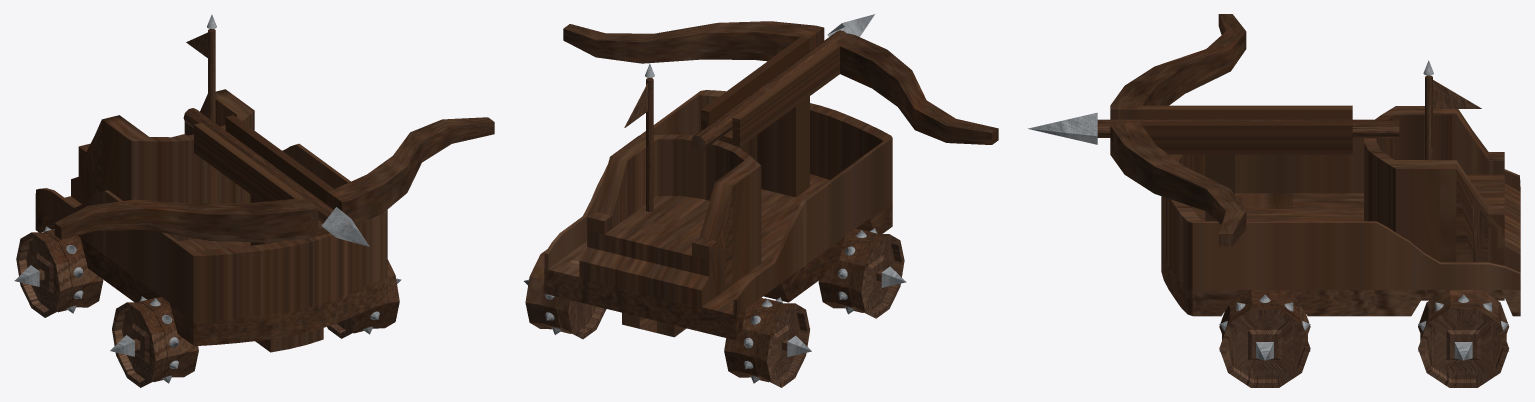
Rendered from Enemy1.fbx.
3 views of the same model, side by side, from view 1: azimuth 30°, elevation 25°; view 2: azimuth 150°, elevation 25°; view 3: azimuth 270°, elevation 25° (orthographic). The views are drawn at different scales.
Visible parts, largest first — view 1: polySurface123; view 2: polySurface123; view 3: polySurface123.
Boxes of the visible parts, bbox=[...] form: polySurface123: bbox=[14, 14, 494, 387]; polySurface123: bbox=[524, 14, 998, 387]; polySurface123: bbox=[1028, 14, 1520, 387].
Size of the model in its own units: 1619 by 989 by 1536.
Materials: 1 (1 with a texture image).
